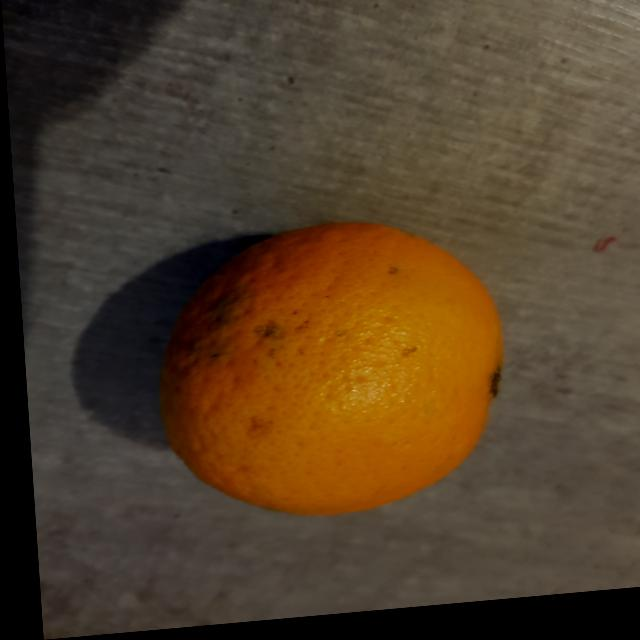Orange: (150, 227, 496, 522)
